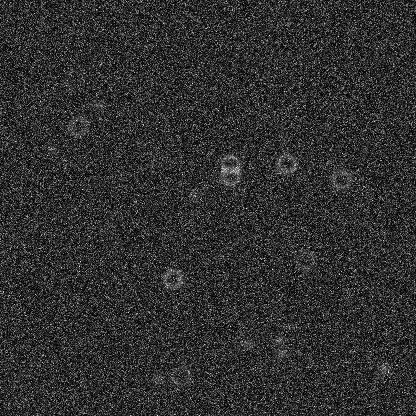Ring: (274, 151, 298, 175), (218, 163, 242, 187), (61, 67, 85, 91), (66, 114, 90, 138), (293, 248, 317, 272), (329, 167, 353, 191), (218, 152, 242, 176), (168, 364, 192, 388), (161, 266, 185, 290)
Spot: (186, 187, 202, 203), (271, 332, 287, 348), (210, 249, 226, 265), (149, 371, 165, 387), (43, 142, 59, 158), (342, 249, 358, 265), (89, 96, 105, 112), (239, 334, 255, 350), (344, 293, 360, 309), (272, 345, 288, 361), (376, 360, 392, 376)
